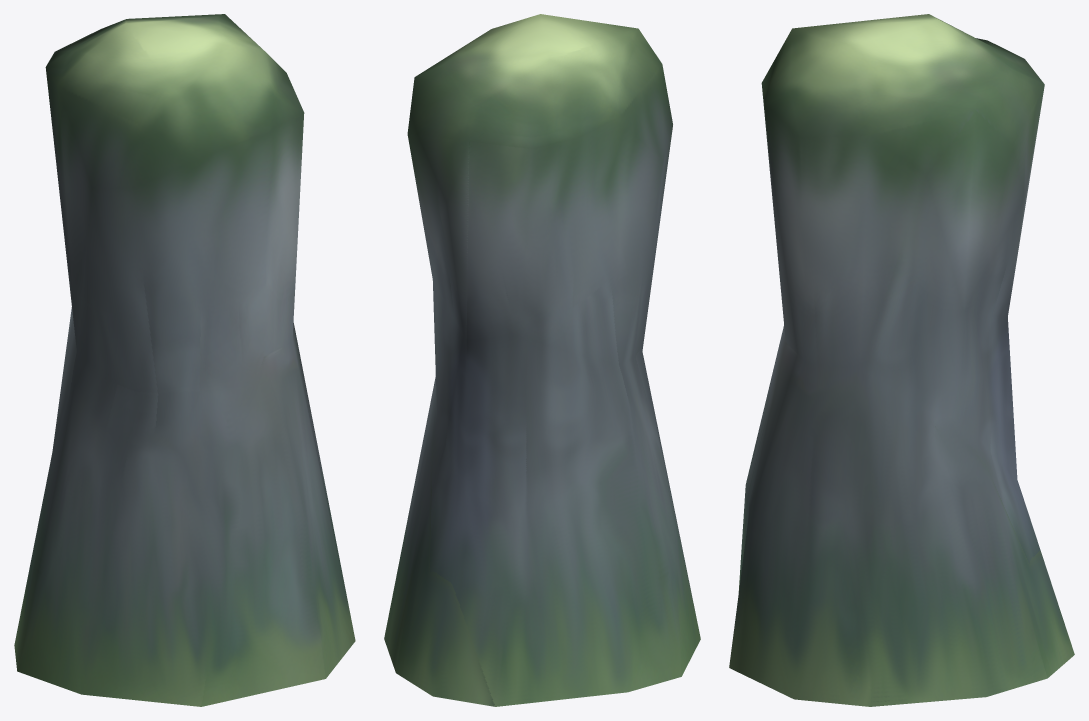
File: Cliff2.fbx
3 views of the same model, side by side, from view 1: azimuth 30°, elevation 25°; view 2: azimuth 150°, elevation 25°; view 3: azimuth 270°, elevation 25° (orthographic).
Visible parts, largest first — view 1: Plane; view 2: Plane; view 3: Plane.
Boxes of the visible parts, left/top/right/bottom form: Plane: left=14, top=14, right=355, bottom=706; Plane: left=384, top=14, right=700, bottom=706; Plane: left=729, top=14, right=1074, bottom=706.
Size of the model in its own units: 2.98 by 5.95 by 3.05.
